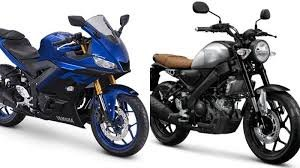motor: (153, 1, 300, 163), (1, 1, 149, 158)
